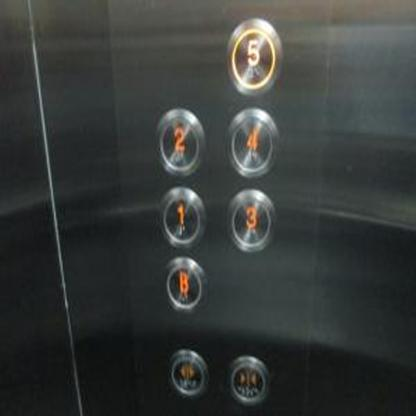1: (158, 184, 208, 250)
2: (152, 107, 206, 178)
3: (225, 185, 277, 255)
4: (224, 105, 280, 179)
5: (224, 16, 284, 98)
B: (161, 255, 210, 317)
close: (224, 353, 270, 407)
open: (165, 346, 211, 398)
